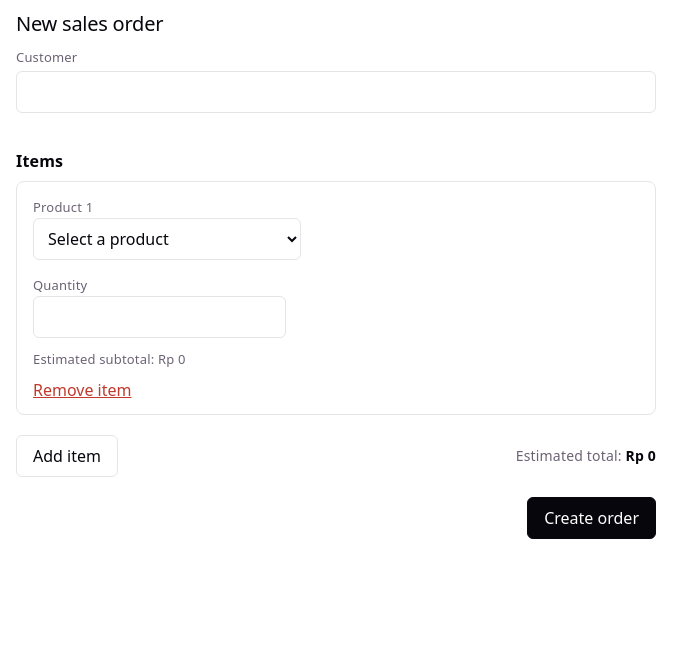
Test case: OrderForm › shows validation errors and does not submit an empty form
What coordinates should you click on to do the following:
click the button "Create order"
I would click on:
 (592, 518)
Its box is left=527, top=497, right=656, bottom=539.
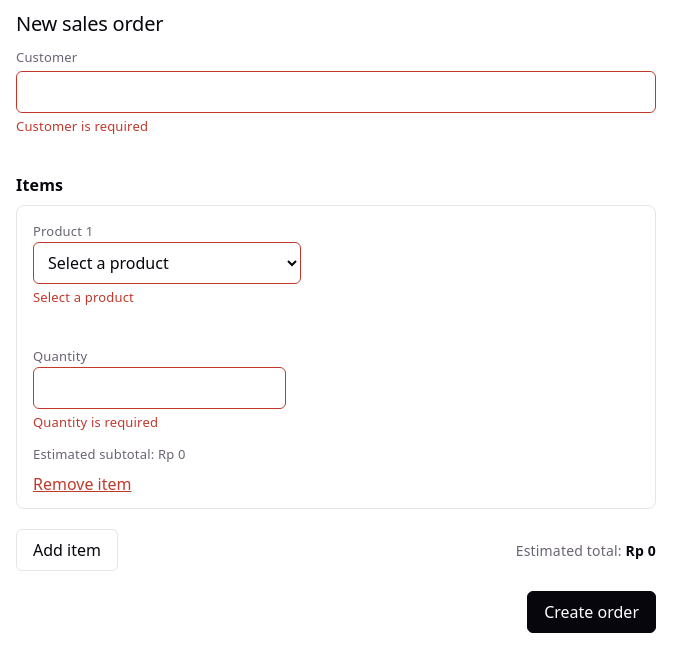
Expected: the text "Customer is required" is shown, left=16, top=117, right=148, bottom=135
Expected: the text "Quantity is required" is shown, left=33, top=413, right=158, bottom=431
